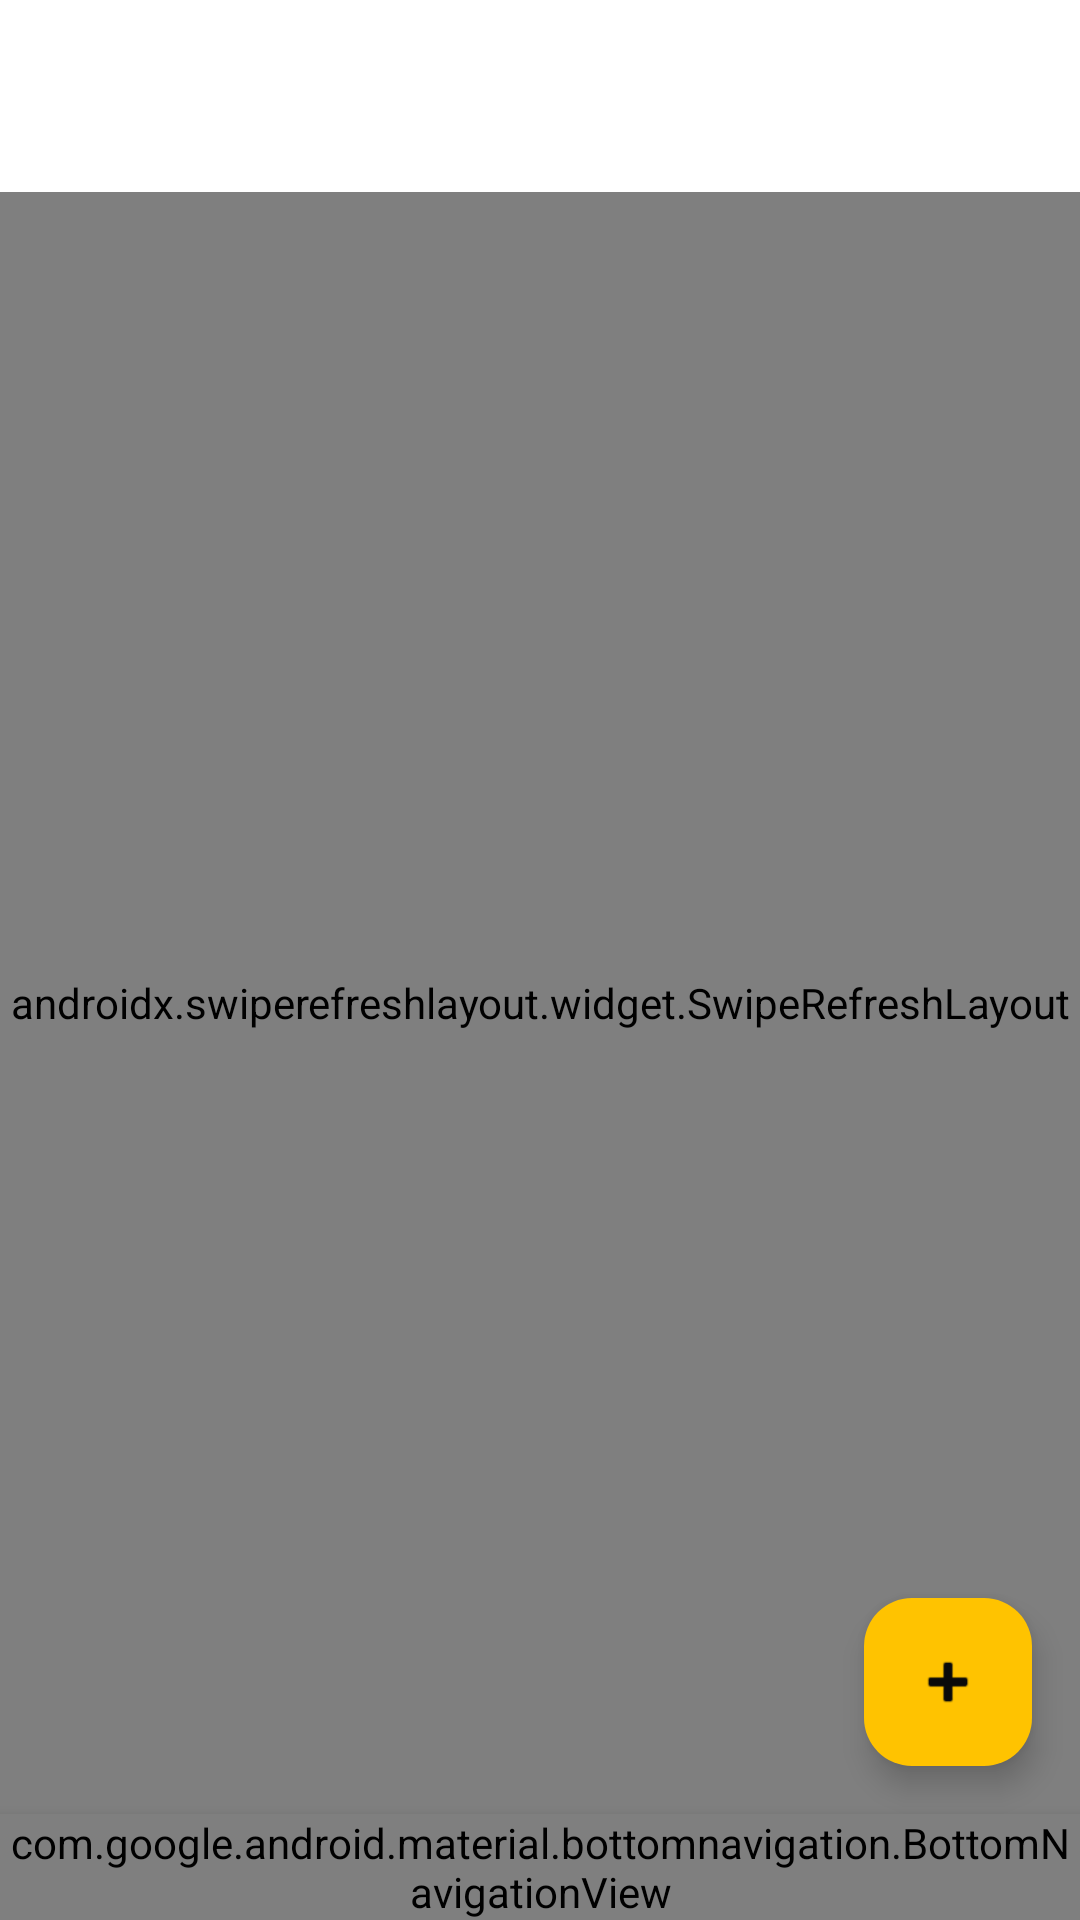

Screen size 1080px x 1920px. Icon name, then its box in pixels as [x1, y1, x2, y2]:
New Chat: [864, 1598, 1032, 1766]
